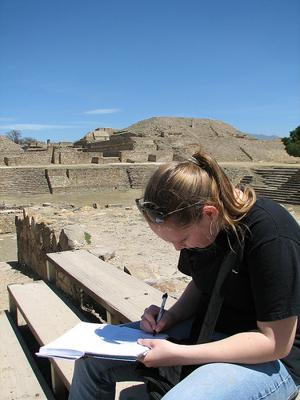person: (67, 153, 299, 400)
